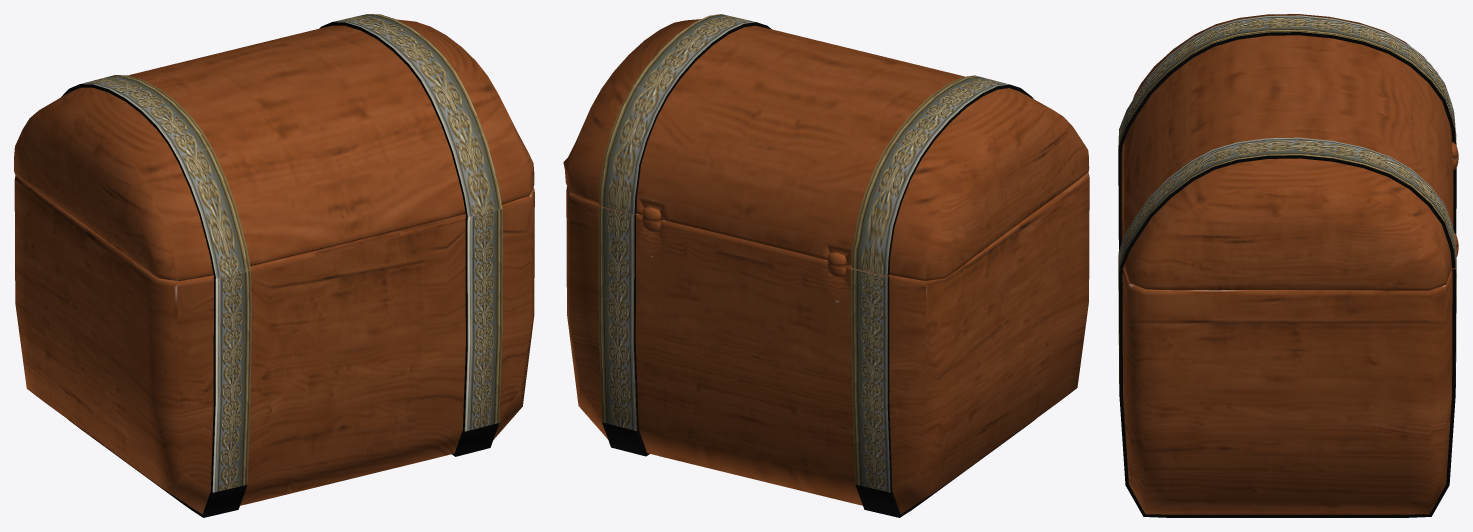
File: Chest_textured.FBX
3 renders of one model, left to right at view 1: azimuth 30°, elevation 25°; view 2: azimuth 150°, elevation 25°; view 3: azimuth 270°, elevation 25°, orthographic.
Visible parts, largest first — view 1: Object001; view 2: Object001; view 3: Object001.
Part boxes in pixels (x1,y1,x2,y2): Object001: [14, 14, 534, 517]; Object001: [563, 14, 1089, 517]; Object001: [1118, 14, 1458, 517].
Bounding box in the file's own units: 0.9945 × 0.9143 × 0.7755.
Materials: 1 (1 with a texture image).
